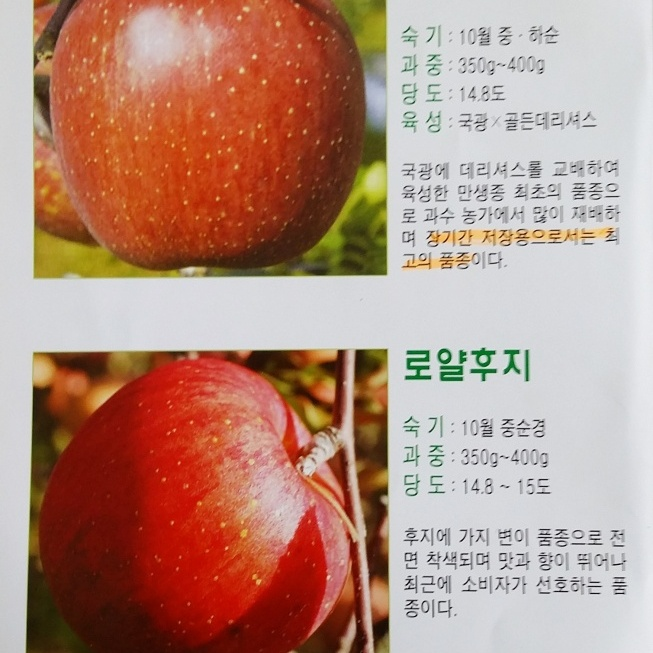apple: (39, 356, 370, 653), (49, 1, 368, 265)
